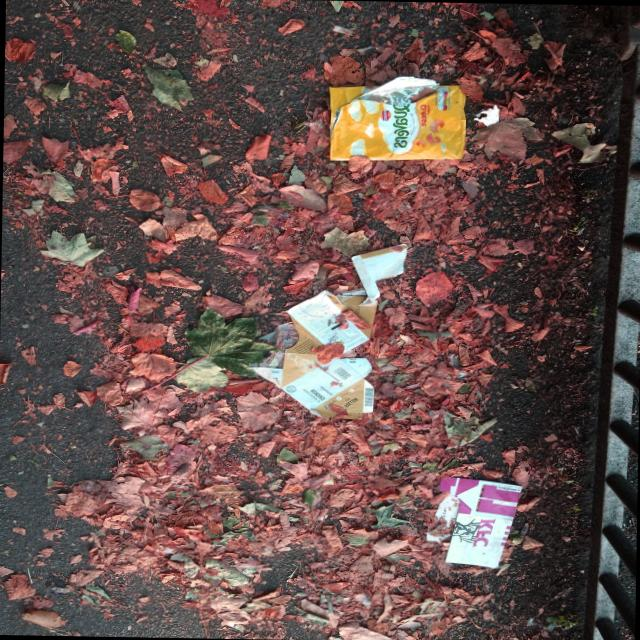less trash: (254, 244, 408, 419), (329, 76, 466, 161), (437, 477, 520, 567)
